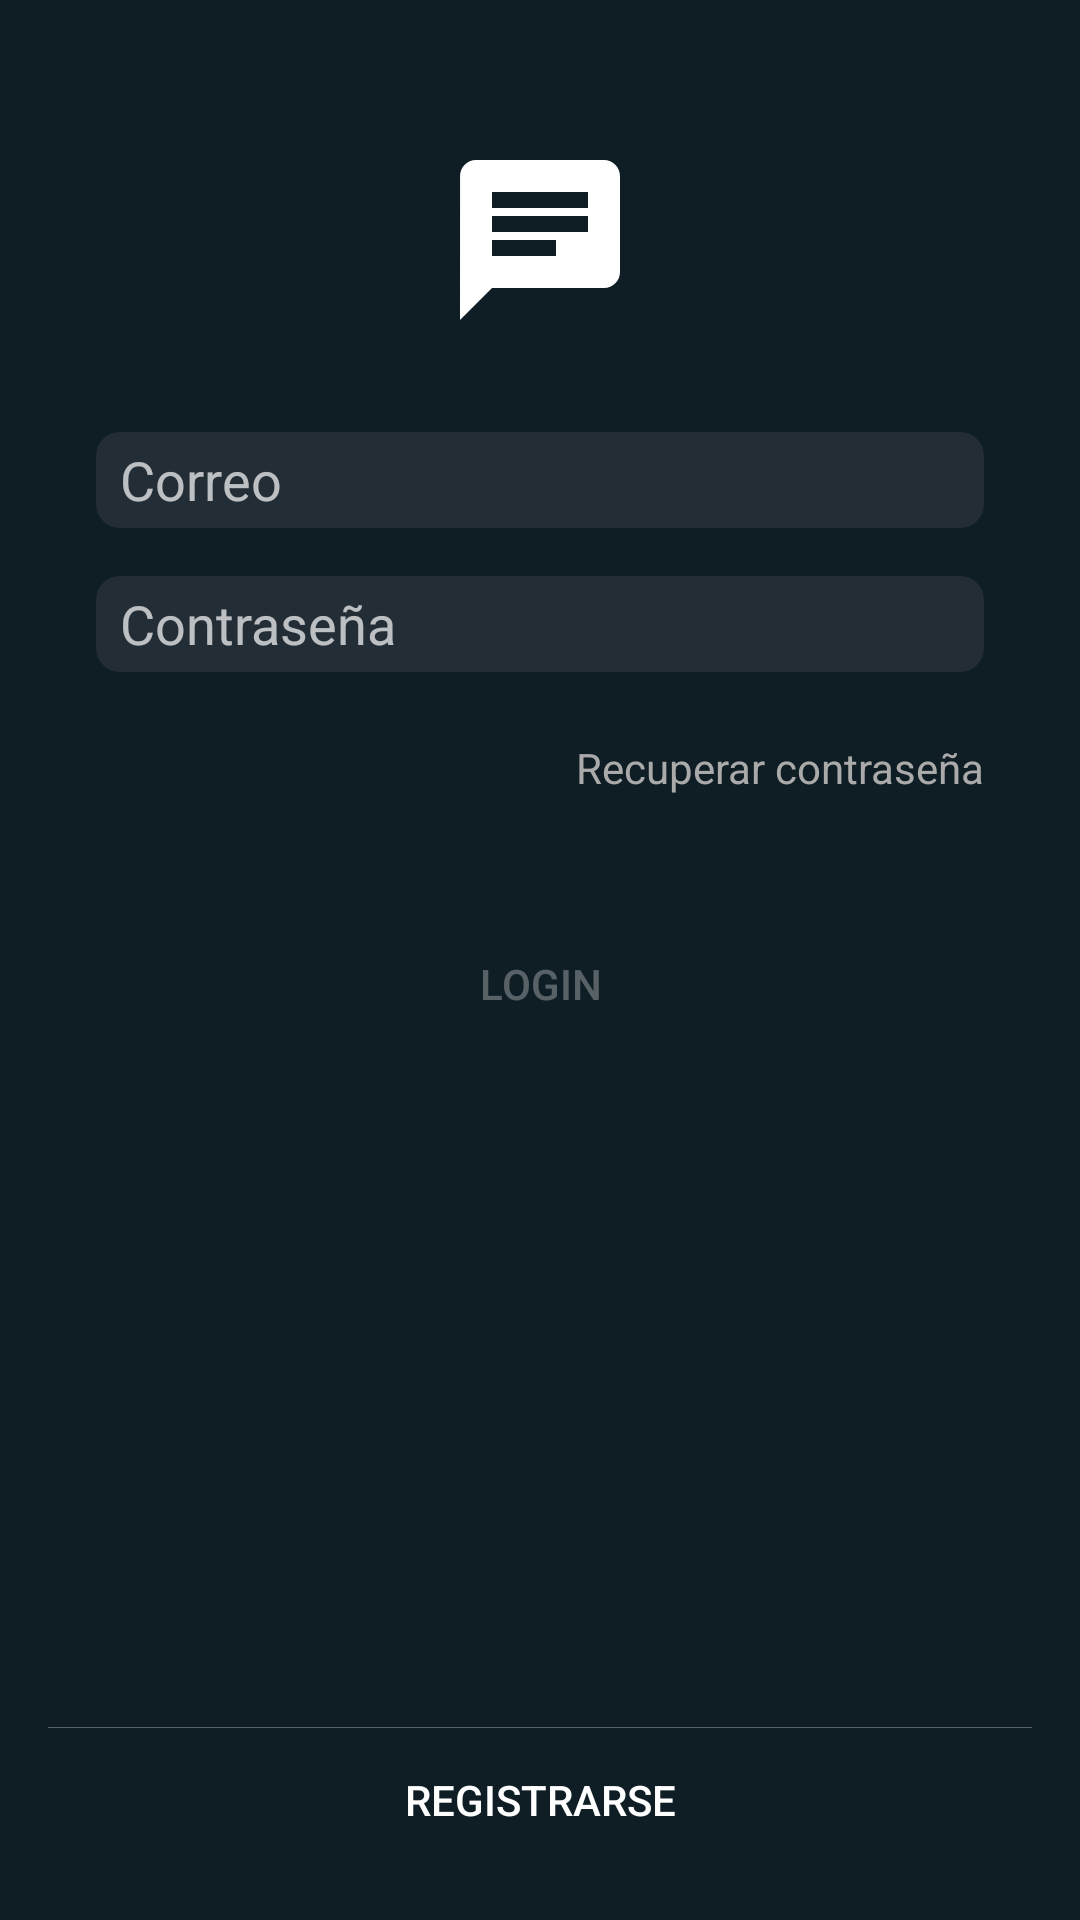

Named icons in this screenshot (1080x1920) and their centers, [x,y]:
chat blanco: [540,240]
